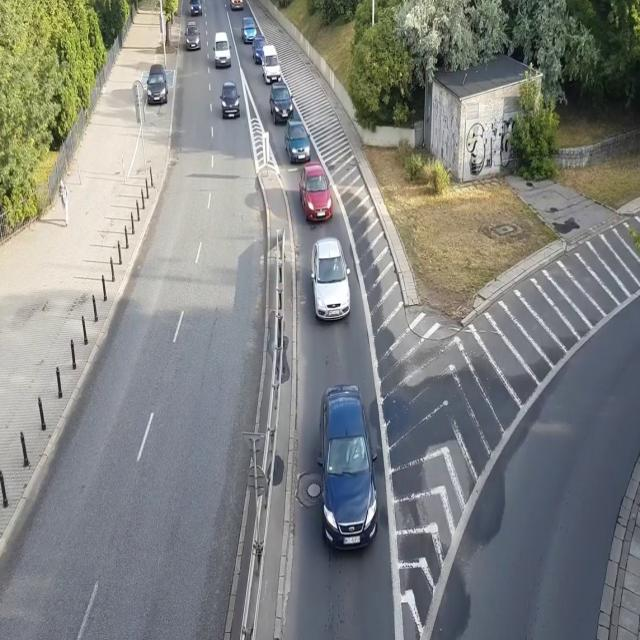car: (315, 383, 380, 550), (310, 235, 352, 322), (300, 164, 334, 225), (285, 118, 312, 165), (269, 82, 295, 122), (145, 63, 169, 106), (220, 81, 241, 120), (185, 20, 201, 52), (242, 17, 258, 45), (252, 35, 266, 66), (228, 0, 244, 11)
van: (212, 29, 233, 69), (261, 44, 282, 84), (189, 0, 203, 18)
